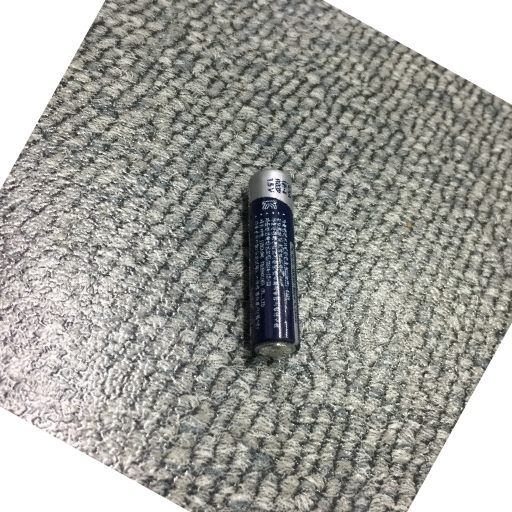Battery_0: (233, 157, 313, 375)
